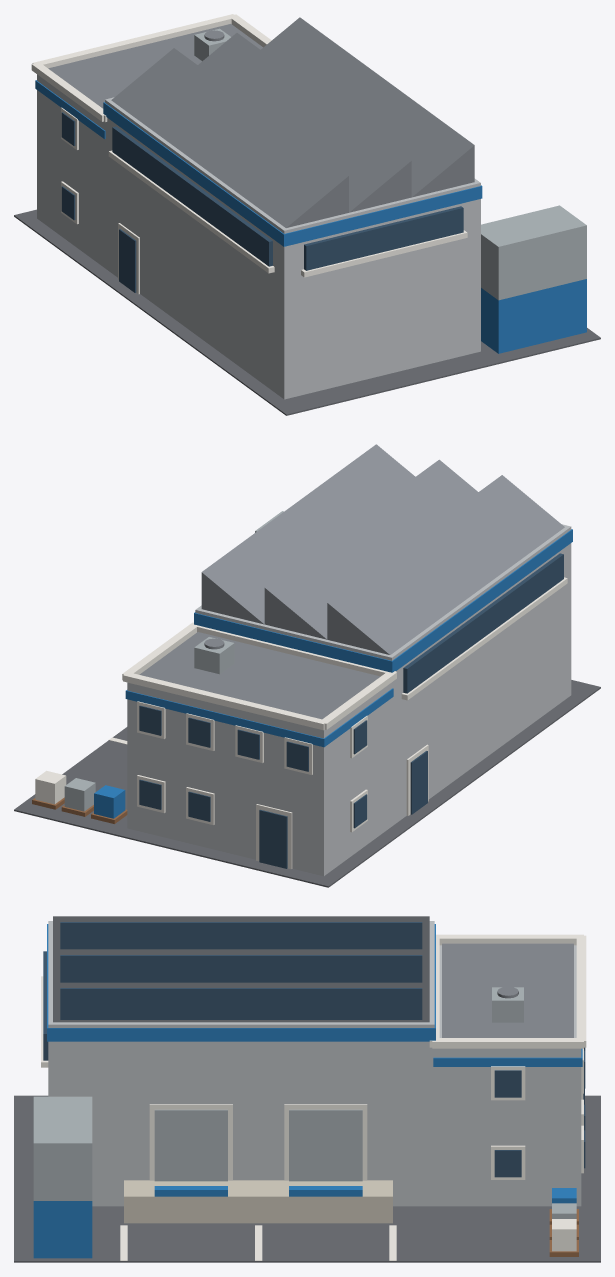
The picture shows the model from 3 angles, top to bottom: view 1: azimuth 30°, elevation 25°; view 2: azimuth 150°, elevation 25°; view 3: azimuth 270°, elevation 25°; orthographic projection. The views are drawn at different scales.
Parts seen in each view (by area): view 1: roof (×4), hall, container (×2), window_band (×2), yard, office, cladding_band, parapet (×2), sill (×2), door, accent_stripe, ac_unit_body; view 2: roof (×4), office, hall, yard, parapet (×4), cladding_band, window_band, window_glass (×6), crate (×3), door (×2), accent_stripe, sill (+2 smaller); view 3: hall, skylight (×3), yard, roof (×4), office, garage_door (×2), dock, container (×2), cladding_band, parapet (×3), garage_door_frame (×2), bumper (×2) (+6 smaller).
Boxes of the visible parts, x1,y1,x2,y2 form: roof (×4): (48,17,474,227); hall: (105,97,480,399); container (×2): (481,205,586,353); window_band (×2): (112,126,463,270); yard: (14,209,600,415); office: (37,74,104,267); cladding_band: (103,102,482,246); parapet (×2): (31,14,236,121); sill (×2): (108,150,467,277); door: (119,229,136,292); accent_stripe: (35,80,105,139); ac_unit_body: (194,28,230,61); roof (×4): (139,444,564,719); office: (127,682,391,876); hall: (195,524,571,826); yard: (14,680,600,887); parapet (×4): (122,622,396,730); cladding_band: (194,529,572,672); window_band: (403,553,563,693); window_glass (×6): (139,705,308,821); crate (×3): (35,770,125,818); door (×2): (259,751,427,868); accent_stripe: (125,688,393,747); sill: (401,577,567,700); hall: (48,921,434,1206); skylight (×3): (60,922,422,1019); yard: (14,1095,600,1262); roof (×4): (53,916,573,1037); office: (434,945,581,1206); garage_door (×2): (154,1109,362,1181); dock: (124,1180,392,1223); container (×2): (33,1096,92,1258); cladding_band: (47,924,435,1041); parapet (×3): (432,934,586,1048); garage_door_frame (×2): (149,1104,367,1180); bumper (×2): (154,1186,362,1196).
Bounding box in the file's own units: 16 × 10.07 × 24.
